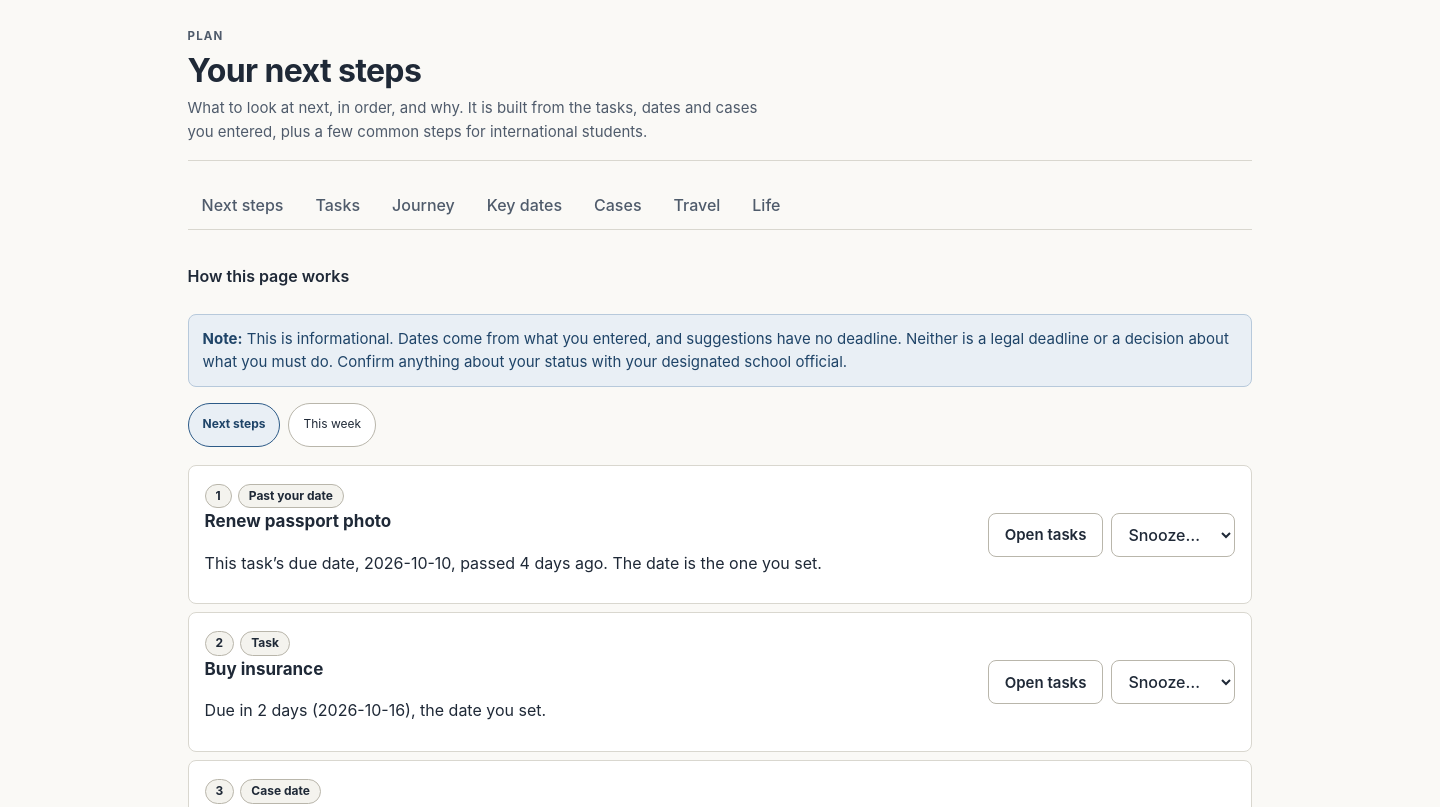
Test case: NextStepsPage › switches to the weekly view with a copyable summary
Click the button "This week" at (332, 425), box [288,403,376,447]
(page scrolled)
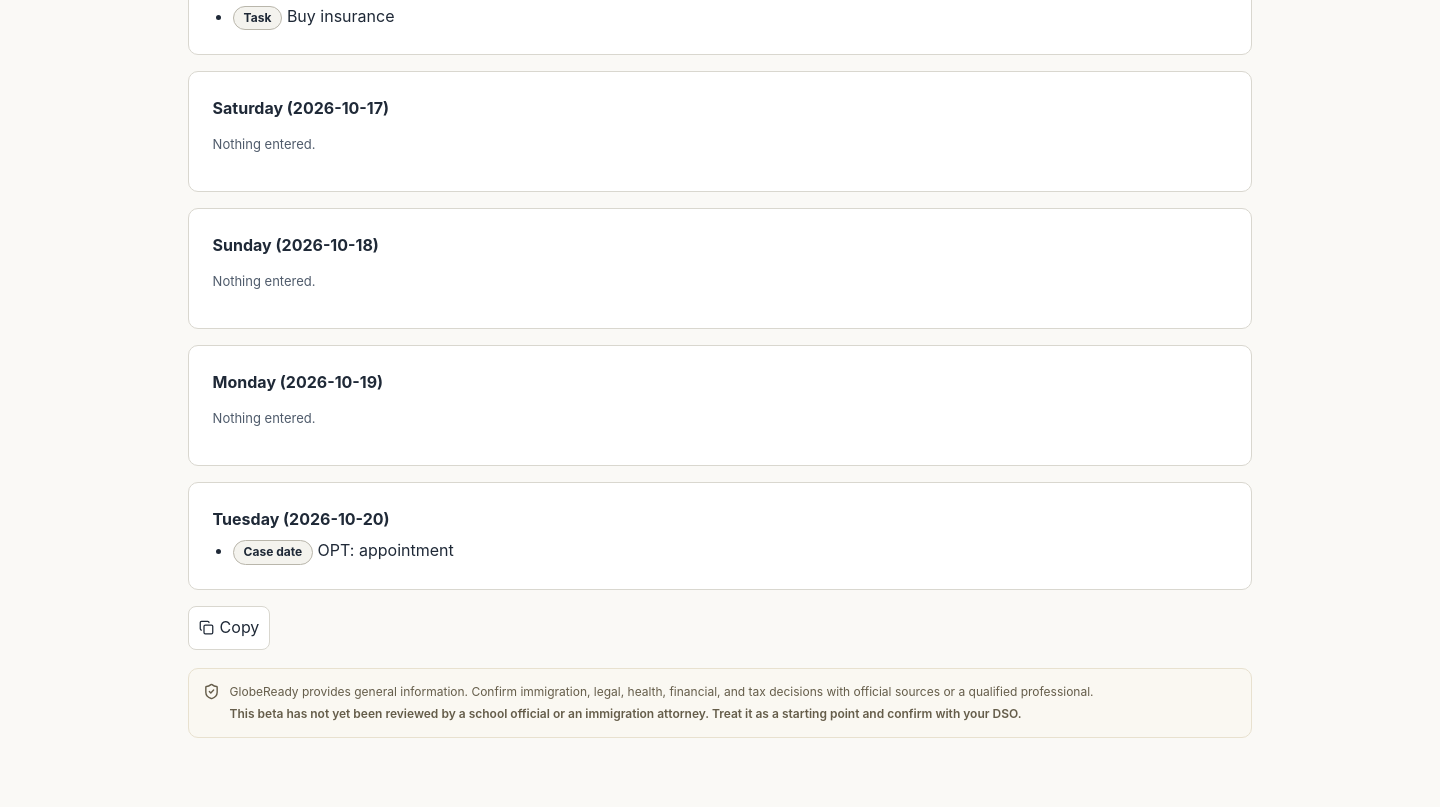
Now the button with aria-label "Copy this week" is shown, box [188,606,270,650]
